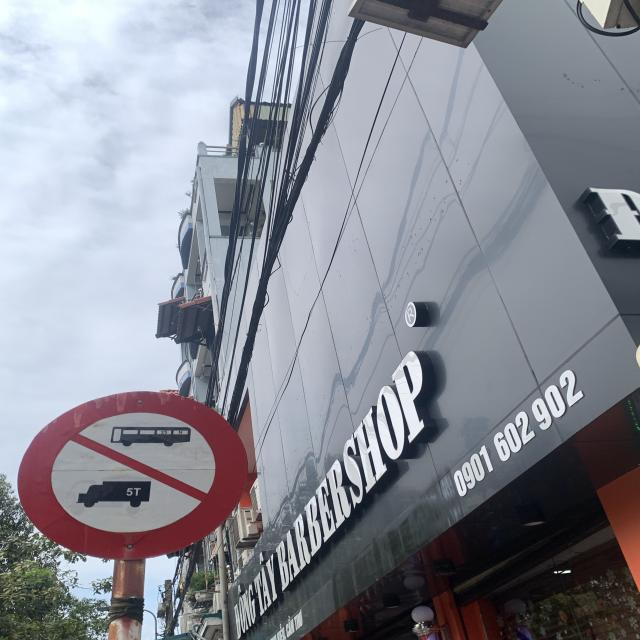Cam_XeTai_XeKhach: (18, 389, 249, 562)
